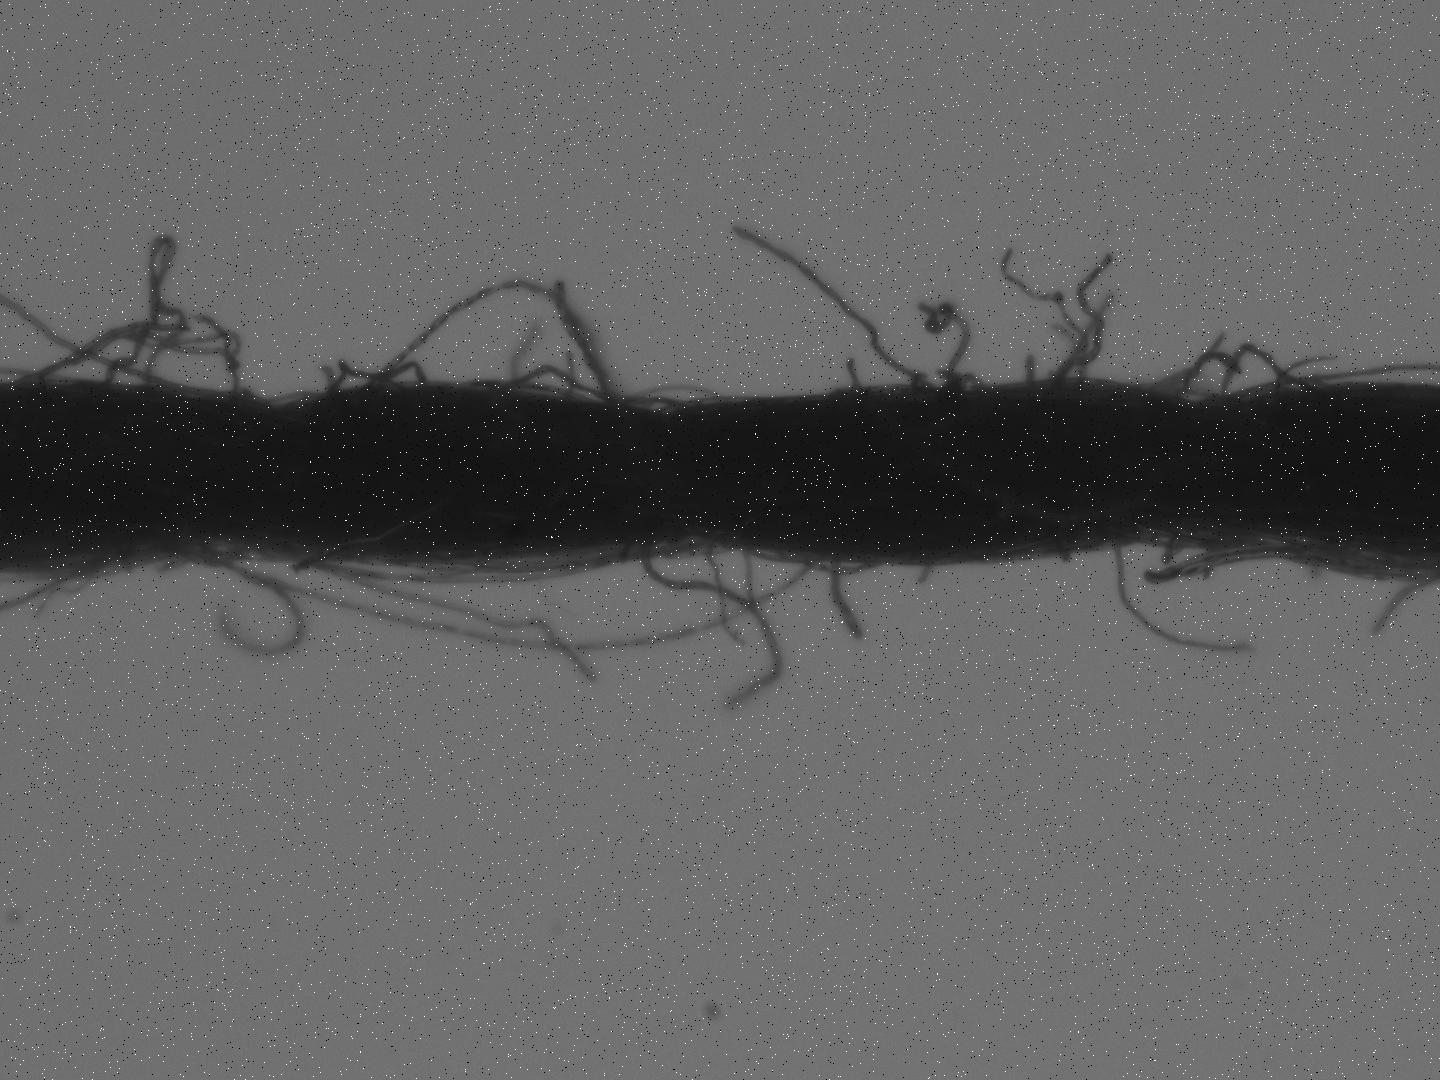loop_fiber: (354, 271, 622, 414), (33, 327, 247, 394), (105, 230, 189, 385), (1171, 335, 1333, 412), (744, 541, 892, 576)
protruding_fiber: (731, 219, 933, 386)
